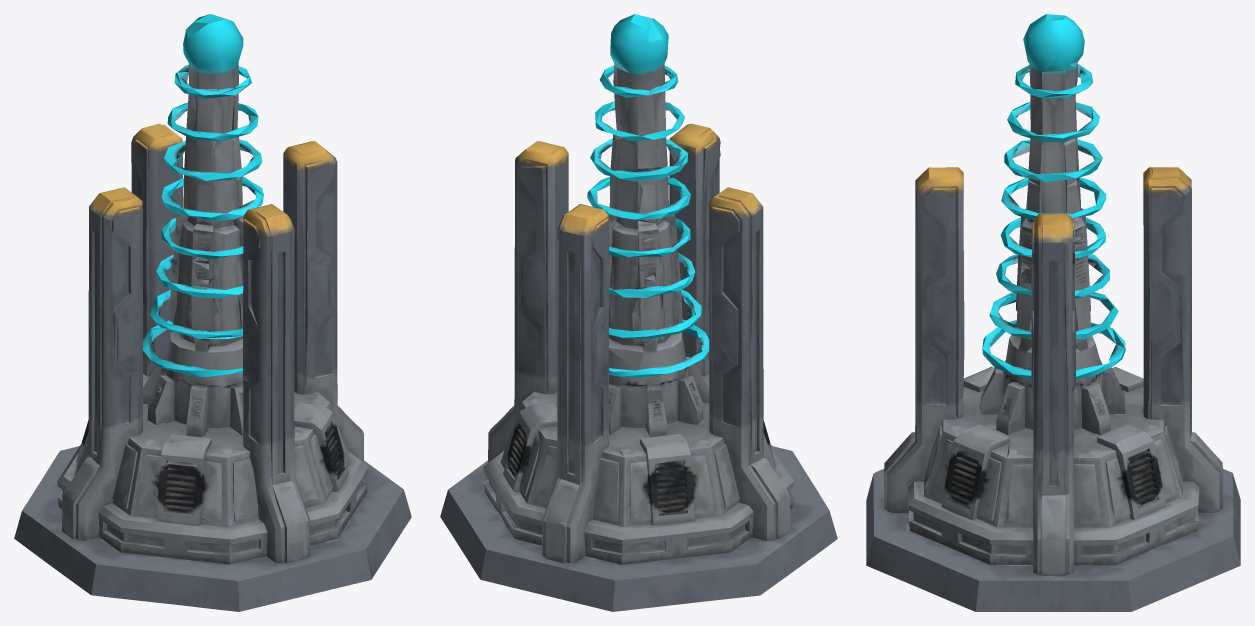
File: town-shield-light.glb
3 renders of one model, left to right at view 1: azimuth 30°, elevation 25°; view 2: azimuth 150°, elevation 25°; view 3: azimuth 270°, elevation 25°, orthographic.
Parts seen in each view (by area): view 1: town-shield-light; view 2: town-shield-light; view 3: town-shield-light.
Part boxes in pixels (<box>): town-shield-light: <box>14,14,411,611</box>; town-shield-light: <box>440,14,837,611</box>; town-shield-light: <box>866,14,1240,611</box>.
Bounding box in the file's own units: 7.19 × 10.92 × 7.19.
1 material, 1 textured.
